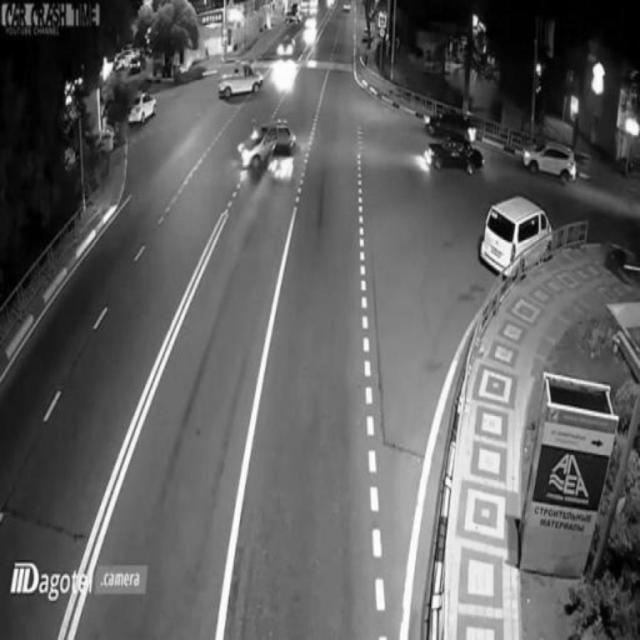accident: (240, 116, 302, 187)
vehicle: (479, 193, 556, 279), (519, 140, 583, 184), (421, 138, 488, 176), (422, 109, 479, 147), (217, 63, 264, 100)
